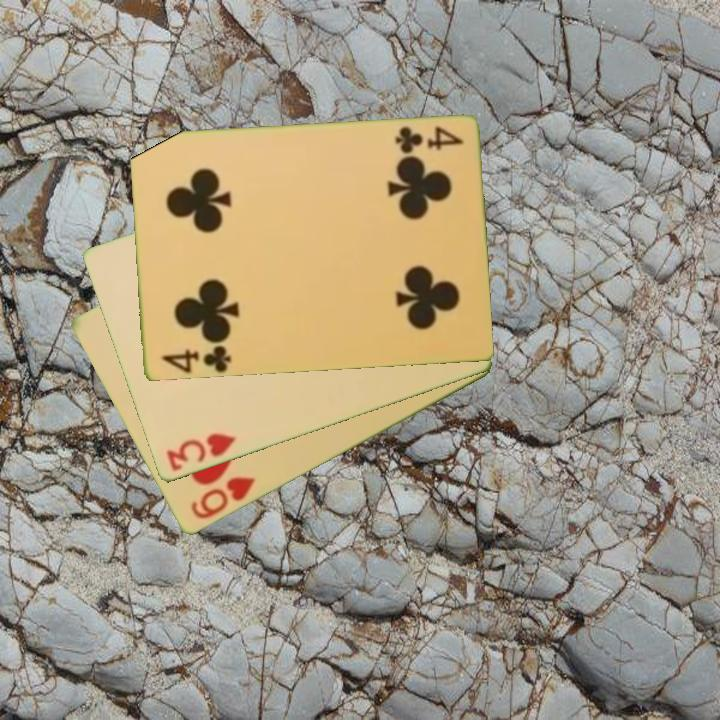3h: (163, 430, 239, 475)
4c: (157, 342, 234, 376), (392, 123, 466, 156)
6h: (187, 473, 258, 523)
